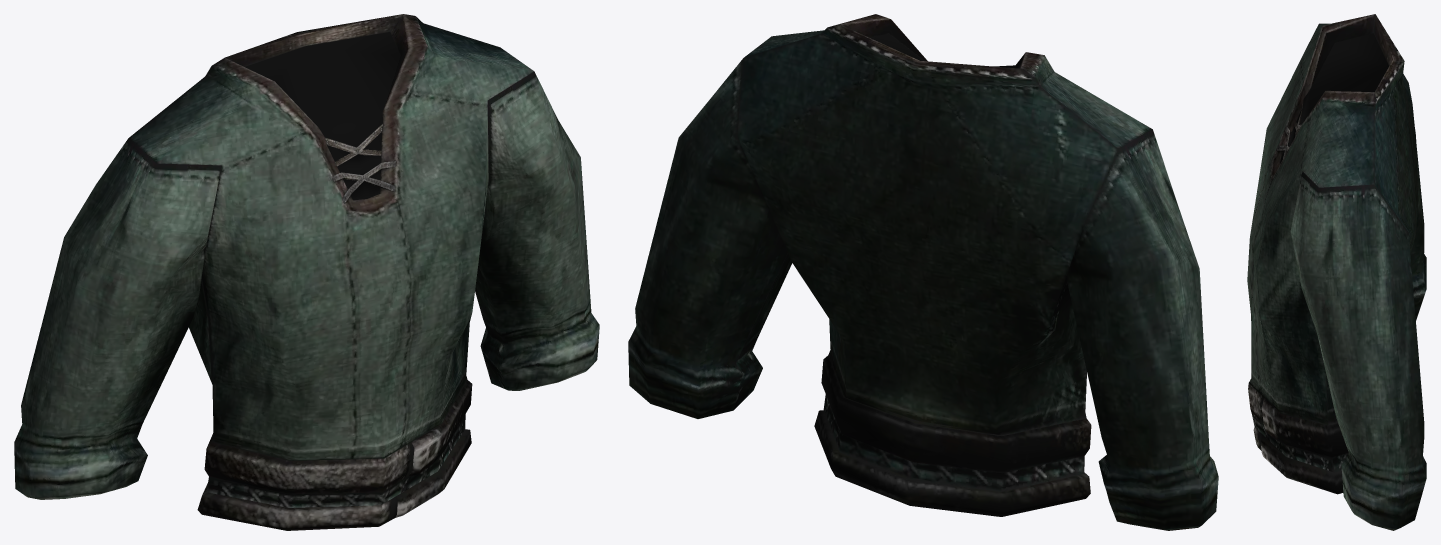
File: STATIC_GS_SLAV_VLK_02_2_KOZA.glb
The picture shows the model from 3 angles, left to right: view 1: azimuth 30°, elevation 25°; view 2: azimuth 150°, elevation 25°; view 3: azimuth 270°, elevation 25°; orthographic projection. The views are drawn at different scales.
Visible parts, largest first — view 1: Mesh; view 2: Mesh; view 3: Mesh.
Boxes of the visible parts, box(x1,y1,x2,y2) form: Mesh: box(14, 14, 599, 530); Mesh: box(628, 14, 1218, 530); Mesh: box(1247, 14, 1426, 530).
Bounding box in the file's own units: 0.6739 × 0.5009 × 0.2067.
1 material, 1 textured.
